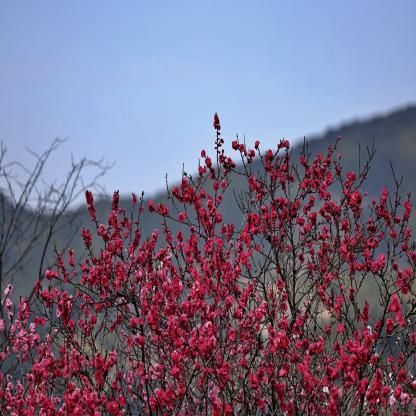Momo: (0, 111, 415, 416)
